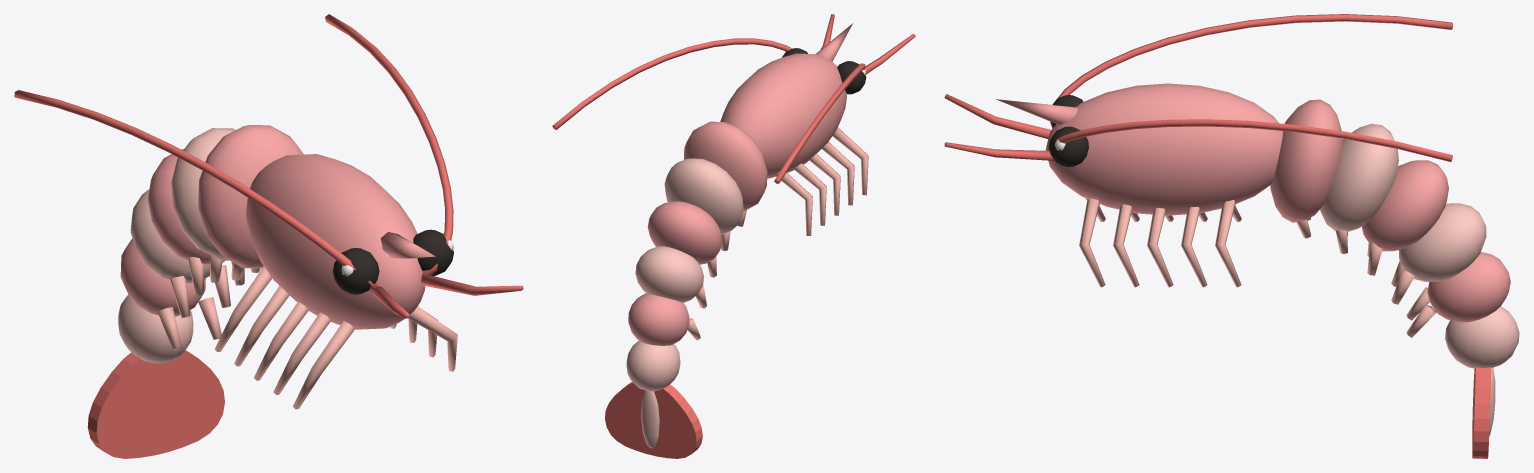
The model's file is sea-sweet-shrimp.glb.
3 renders of one model, left to right at view 1: azimuth 30°, elevation 25°; view 2: azimuth 150°, elevation 25°; view 3: azimuth 270°, elevation 25°, orthographic. The views are drawn at different scales.
Visible parts, largest first — view 1: shrimp; view 2: shrimp; view 3: shrimp.
Part boxes in pixels (x1,y1,x2,y2): shrimp: (14, 14, 523, 458); shrimp: (552, 14, 915, 458); shrimp: (944, 14, 1519, 458).
Bounding box in the file's own units: 0.1139 × 0.1475 × 0.2048.
